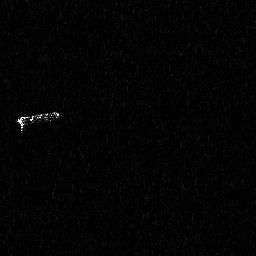ship: (15, 109, 61, 137)
